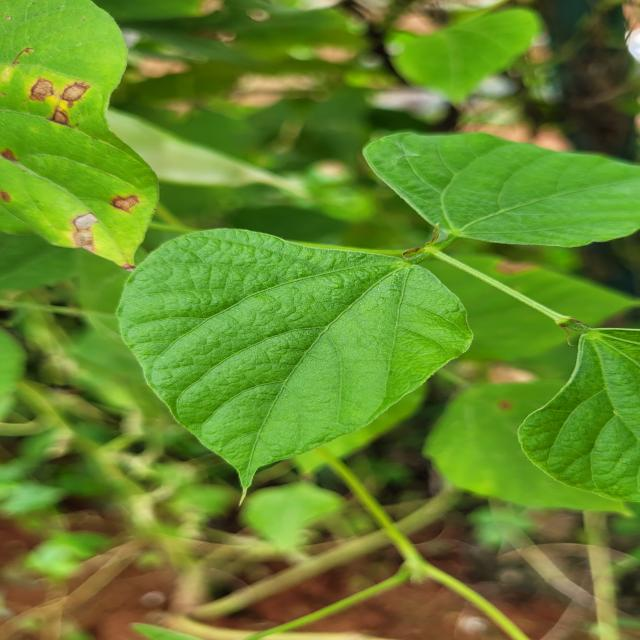Dolicos bean_healthy: (119, 229, 465, 490), (373, 127, 640, 246), (508, 309, 640, 507)
